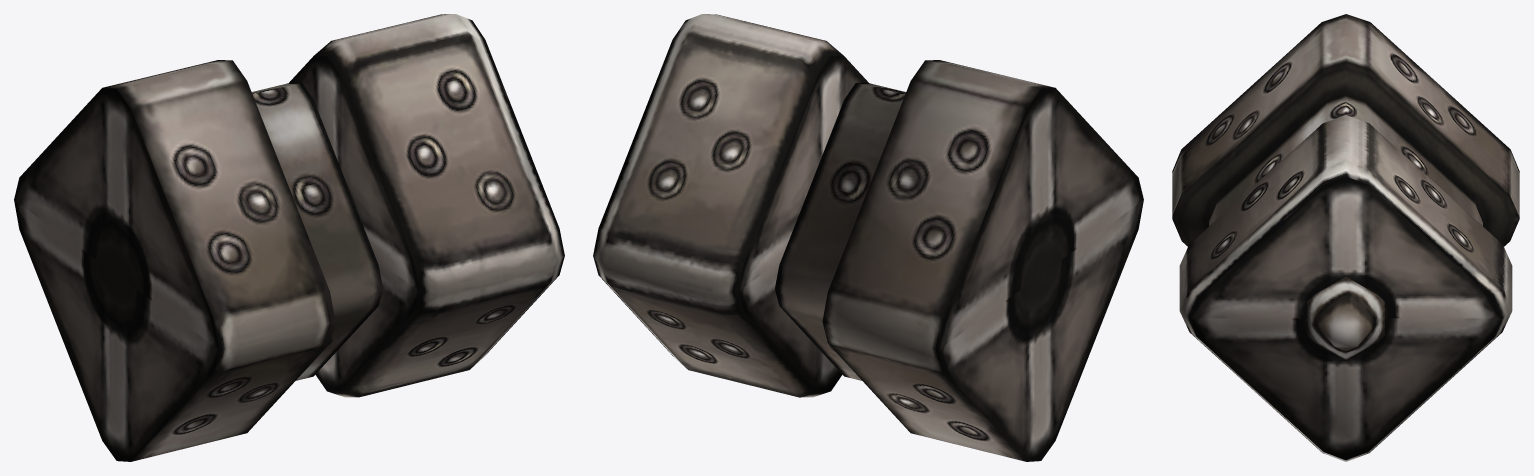
Rendered from WP_0H_Fist09.FBX.
3 renders of one model, left to right at view 1: azimuth 30°, elevation 25°; view 2: azimuth 150°, elevation 25°; view 3: azimuth 270°, elevation 25°, orthographic. The views are drawn at different scales.
Visible parts, largest first — view 1: WP_0H_Fist09; view 2: WP_0H_Fist09; view 3: WP_0H_Fist09.
Part boxes in pixels (x1=…): WP_0H_Fist09: x1=14, y1=14, x2=564, y2=461; WP_0H_Fist09: x1=593, y1=14, x2=1143, y2=461; WP_0H_Fist09: x1=1172, y1=14, x2=1519, y2=461.
Size of the model in its own units: 46.32 by 41.45 by 41.45.
